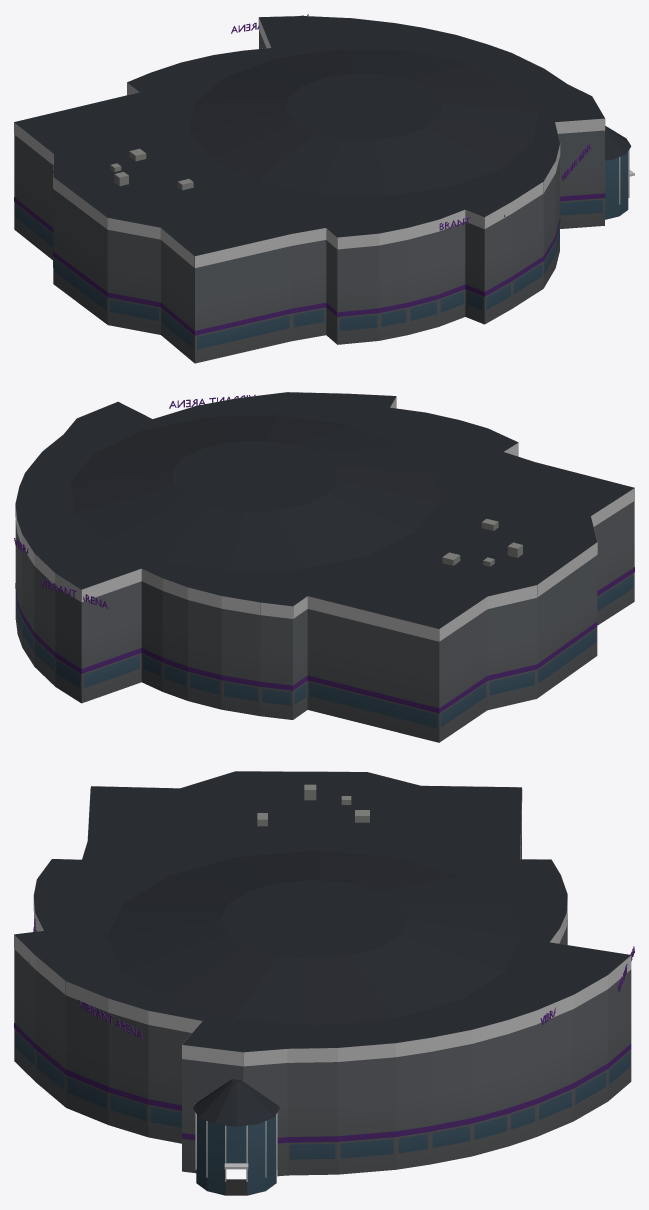
Rendered from arena.glb.
3 views of the same model, one above another, from view 1: azimuth 30°, elevation 25°; view 2: azimuth 150°, elevation 25°; view 3: azimuth 270°, elevation 25° (orthographic). The views are drawn at different scales.
Visible parts, largest first — view 1: arena_lod0; view 2: arena_lod0; view 3: arena_lod0.
Part boxes in pixels (bbox=[...]): arena_lod0: bbox=[14, 14, 634, 363]; arena_lod0: bbox=[14, 392, 634, 742]; arena_lod0: bbox=[14, 771, 634, 1195].
Size of what is drawn, in the model's own units: 138 by 31.01 by 120.
